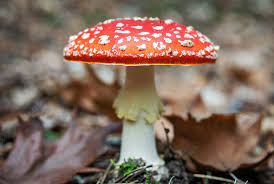Amanita muscaria: (59, 10, 223, 166)
